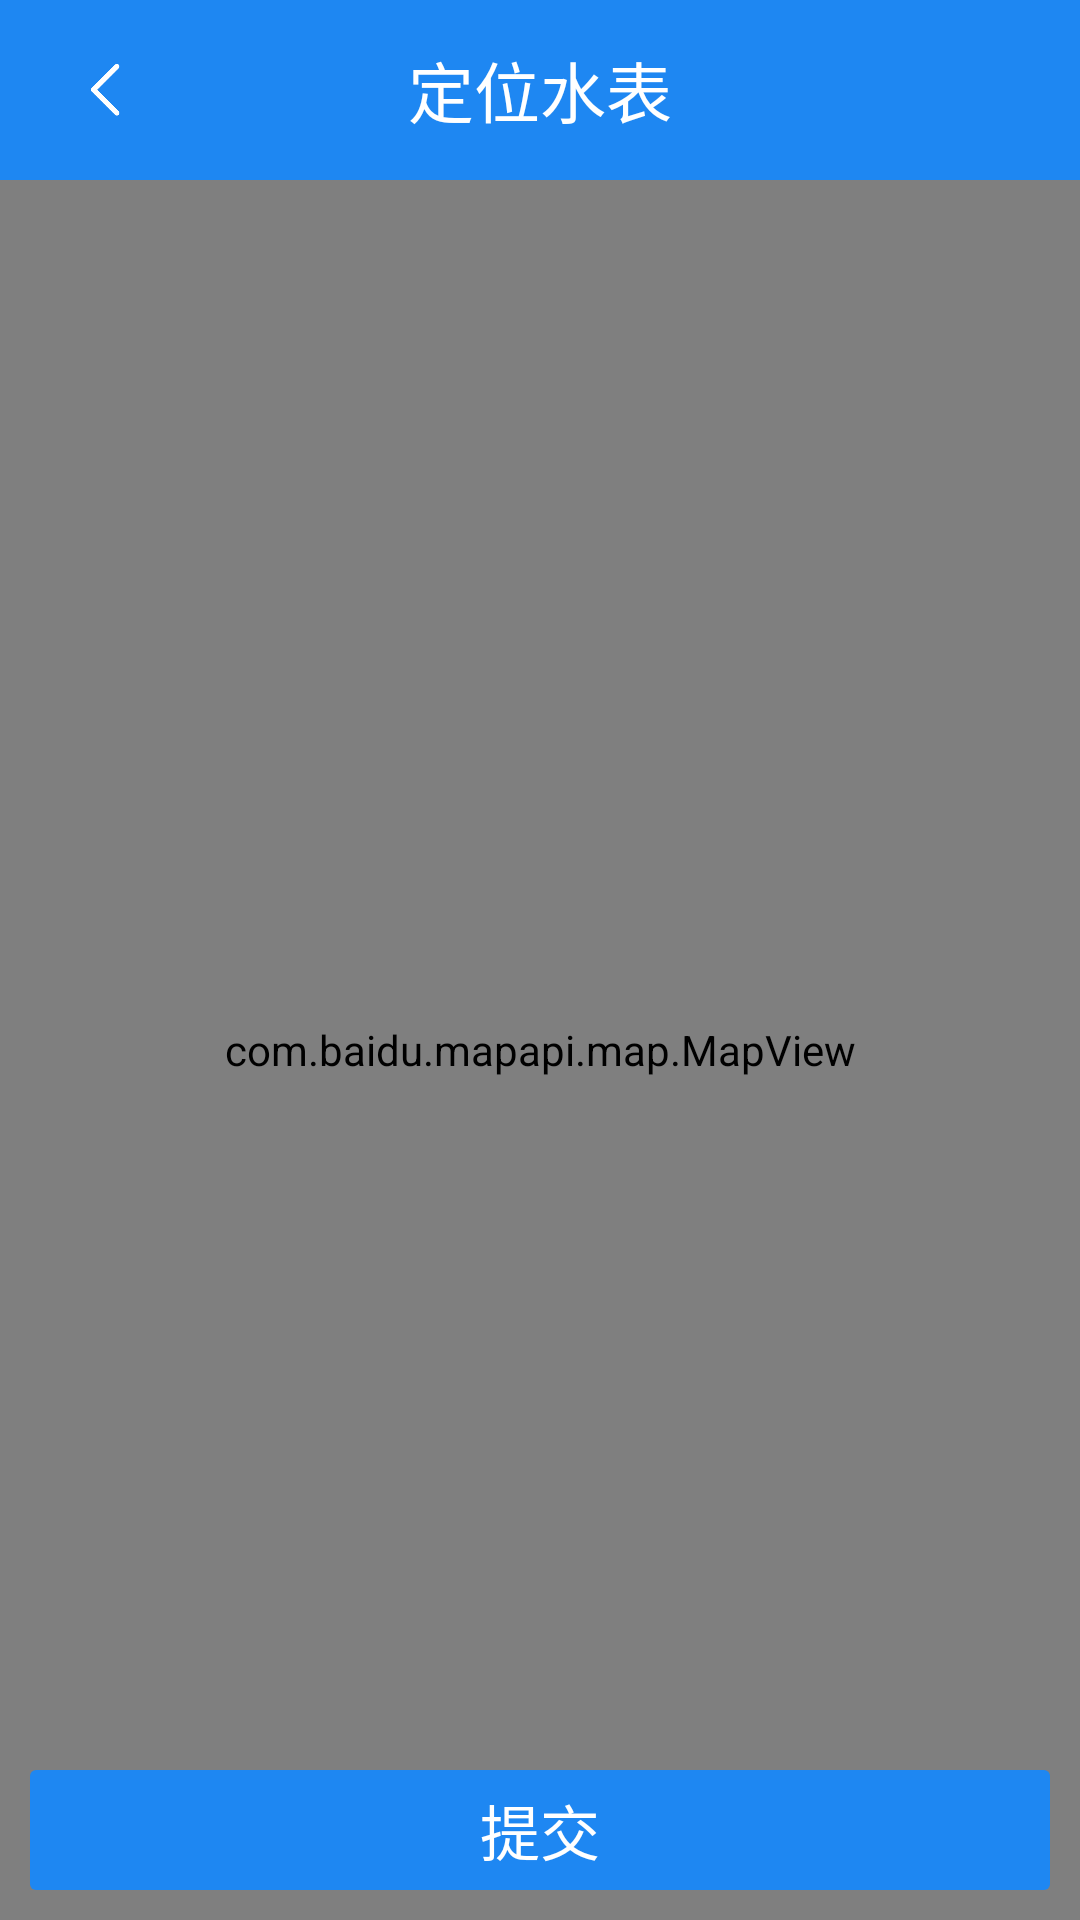

Where icons sit on this 1080w x 1920h app screen, as (x1, y1, x2, y2):
back: (91, 64, 120, 116)
